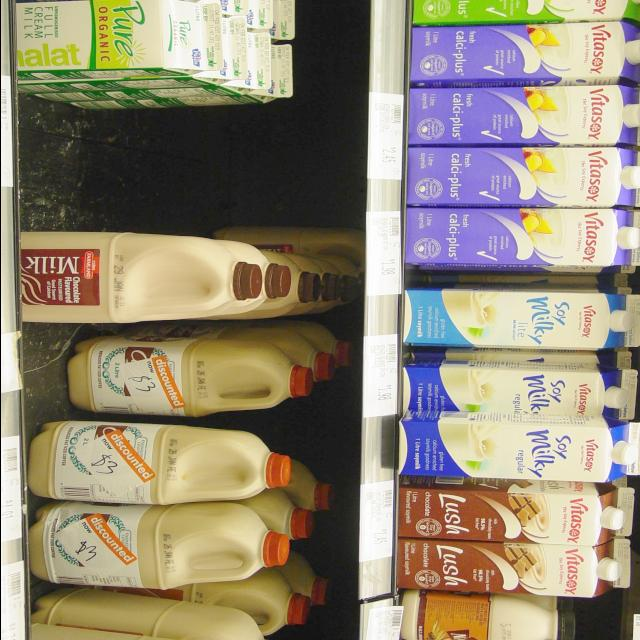empty_space: (29, 108, 287, 234), (14, 331, 72, 411)
